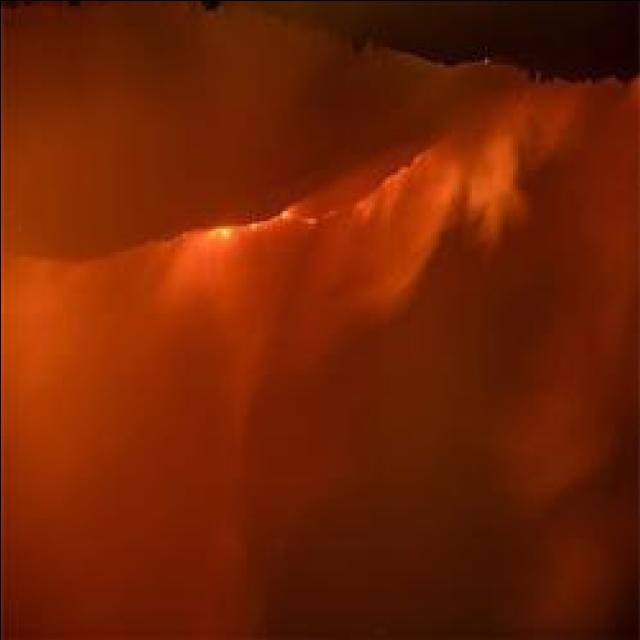fire: (200, 219, 238, 243)
smoke: (522, 94, 640, 487), (362, 134, 548, 306), (158, 250, 284, 392), (4, 256, 74, 468)
